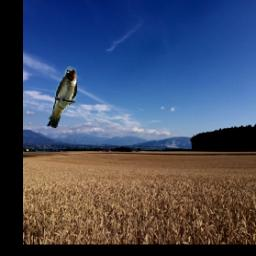Swallow: (46, 67, 78, 129)
